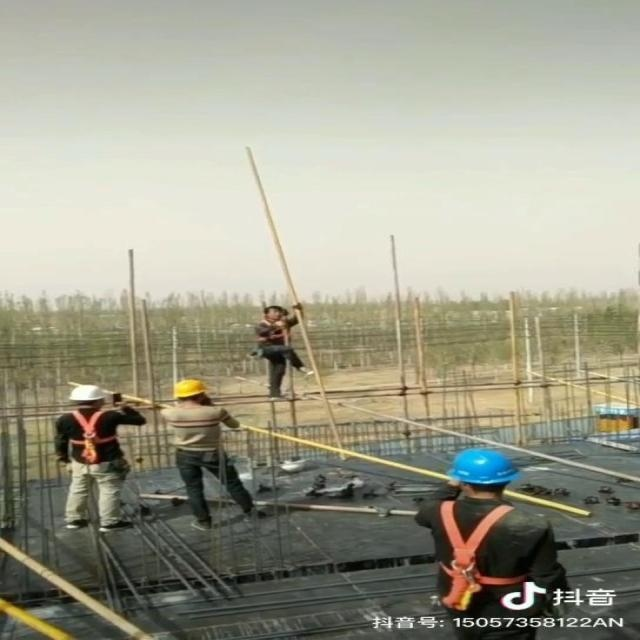Arnes_seguridad: (415, 499, 538, 609), (56, 409, 124, 463), (251, 319, 291, 346)
